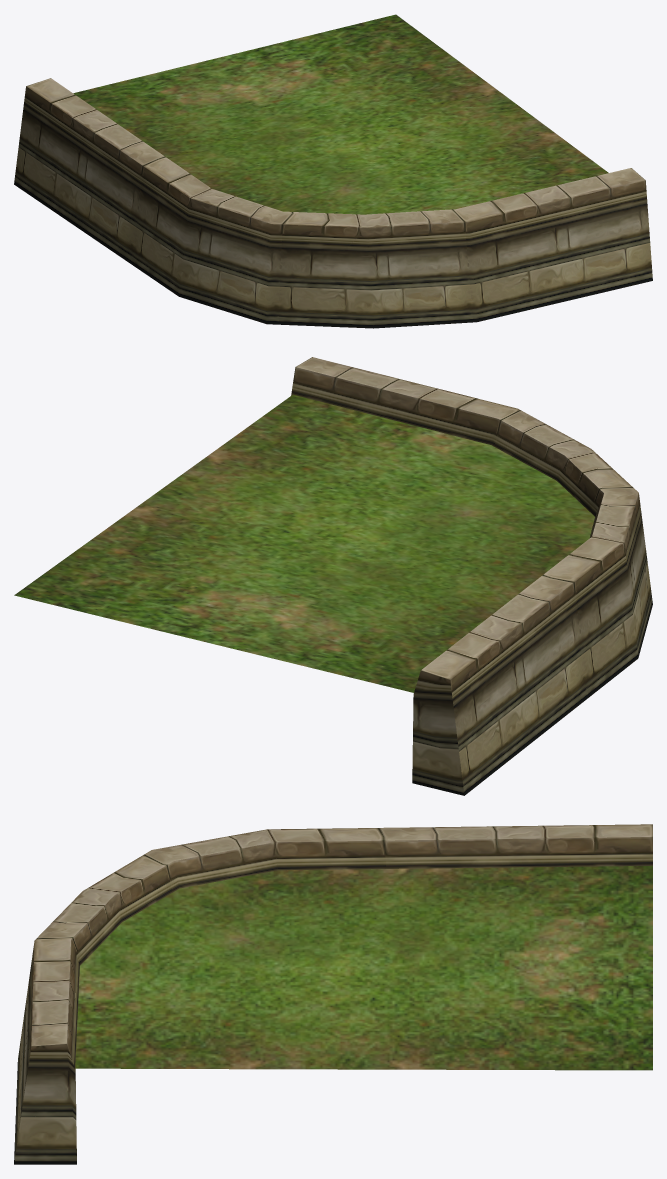
The model's file is DN_mchuatan03.FBX.
3 renders of one model, top to bottom at view 1: azimuth 30°, elevation 25°; view 2: azimuth 150°, elevation 25°; view 3: azimuth 270°, elevation 25°, orthographic. The views are drawn at different scales.
Parts seen in each view (by area): view 1: DN_mchuatan03; view 2: DN_mchuatan03; view 3: DN_mchuatan03.
Boxes of the visible parts, <box> form: DN_mchuatan03: <box>14,14,652,328</box>; DN_mchuatan03: <box>14,357,652,795</box>; DN_mchuatan03: <box>14,824,652,1164</box>.
Bounding box in the file's own units: 383 × 93.27 × 448.
